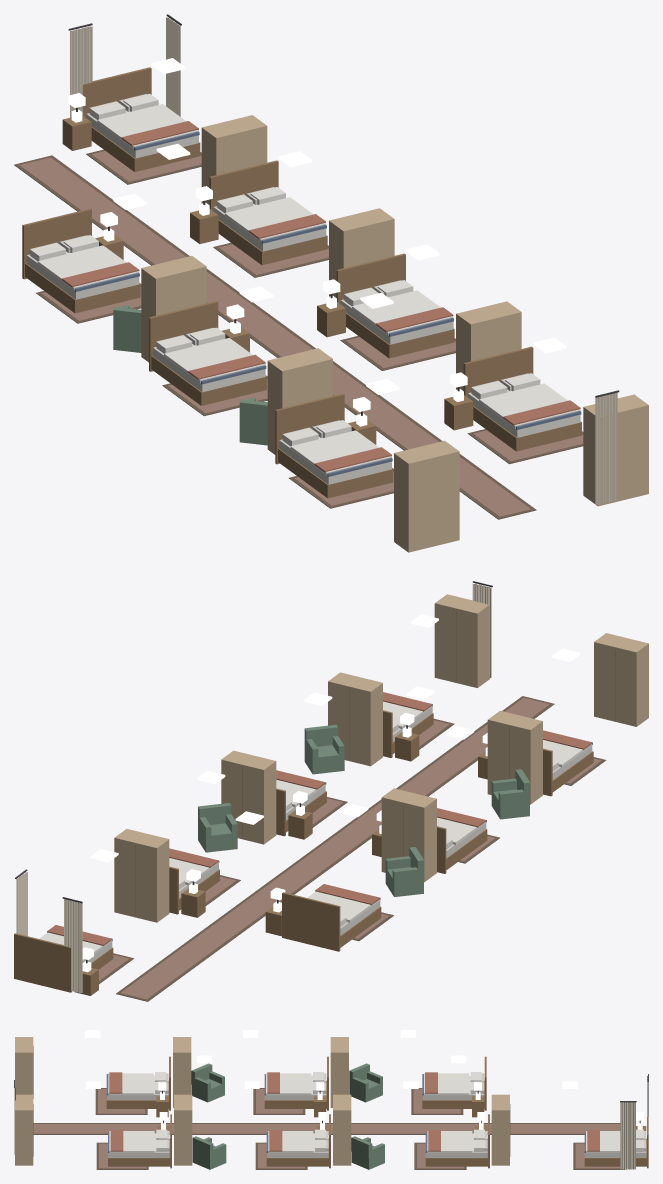
Rendered from fine-s3.glb.
The picture shows the model from 3 angles, top to bottom: view 1: azimuth 30°, elevation 25°; view 2: azimuth 150°, elevation 25°; view 3: azimuth 270°, elevation 25°; orthographic projection. The views are drawn at different scales.
Visible parts, largest first — view 1: soft-s3, dresser.016, dresser.020, bed-frame.014, bed-frame.016, bed-frame.015, bed-frame.018, bed-frame.020, bed-frame.019, bed-frame.017, dresser.015, dresser.014 (+9 smaller); view 2: soft-s3, dresser.017, dresser.020, dresser.016, dresser.019, dresser.018, dresser.014, dresser.015, bed-frame.014, bed-frame.017, lounge-chair.011, lounge-chair.010 (+10 smaller); view 3: soft-s3, dresser.017, dresser.018, dresser.019, dresser.020, bed-frame.018, bed-frame.019, dresser.014, bed-frame.020, dresser.015, dresser.016, lounge-chair.009 (+10 smaller).
Part boxes in pixels (x1=…): soft-s3: x1=14, y1=14, x2=619, y2=519; dresser.016: x1=394, y1=440, x2=459, y2=552; dresser.020: x1=583, y1=394, x2=648, y2=506; bed-frame.014: x1=22, y1=208, x2=140, y2=313; bed-frame.016: x1=275, y1=393, x2=393, y2=498; bed-frame.015: x1=149, y1=301, x2=266, y2=405; bed-frame.018: x1=209, y1=160, x2=327, y2=265; bed-frame.020: x1=463, y1=346, x2=581, y2=451; bed-frame.019: x1=336, y1=253, x2=454, y2=358; bed-frame.017: x1=83, y1=67, x2=200, y2=171; dresser.015: x1=267, y1=348, x2=332, y2=454; dresser.014: x1=141, y1=256, x2=206, y2=362; soft-s3: x1=15, y1=581, x2=606, y2=1001; dresser.017: x1=114, y1=829, x2=169, y2=922; dresser.020: x1=434, y1=594, x2=489, y2=687; dresser.016: x1=594, y1=633, x2=648, y2=726; dresser.019: x1=328, y1=672, x2=382, y2=766; dresser.018: x1=221, y1=750, x2=276, y2=844; dresser.014: x1=381, y1=788, x2=436, y2=882; dresser.015: x1=487, y1=710, x2=542, y2=804; bed-frame.014: x1=282, y1=892, x2=381, y2=951; bed-frame.017: x1=14, y1=933, x2=113, y2=992; lounge-chair.011: x1=304, y1=724, x2=344, y2=774; lounge-chair.010: x1=198, y1=803, x2=237, y2=852; soft-s3: x1=14, y1=1072, x2=648, y2=1169; dresser.017: x1=491, y1=1094, x2=510, y2=1165; dresser.018: x1=333, y1=1094, x2=351, y2=1165; dresser.019: x1=174, y1=1094, x2=192, y2=1165; dresser.020: x1=15, y1=1094, x2=33, y2=1165; bed-frame.018: x1=425, y1=1114, x2=489, y2=1168; bed-frame.019: x1=266, y1=1114, x2=330, y2=1168; dresser.014: x1=330, y1=1037, x2=348, y2=1107; bed-frame.020: x1=108, y1=1114, x2=171, y2=1168; dresser.015: x1=173, y1=1037, x2=191, y2=1107; dresser.016: x1=15, y1=1037, x2=33, y2=1098; lounge-chair.009: x1=191, y1=1063, x2=224, y2=1102.
Bounding box in the file's own units: 6.39 × 2.54 × 20.75.
